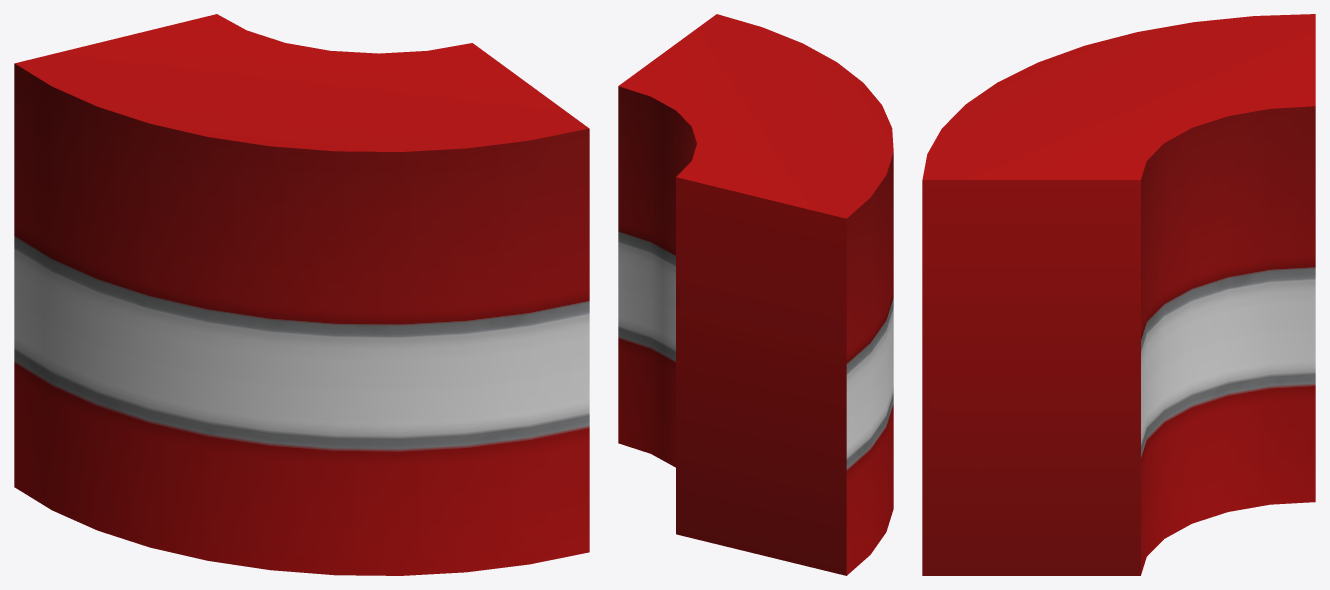
Rendered from CafeBarStand01_6.FBX.
3 renders of one model, left to right at view 1: azimuth 30°, elevation 25°; view 2: azimuth 150°, elevation 25°; view 3: azimuth 270°, elevation 25°, orthographic. The views are drawn at different scales.
Parts seen in each view (by area): view 1: CafeBarStand01_6; view 2: CafeBarStand01_6; view 3: CafeBarStand01_6.
Part boxes in pixels (x1=…): CafeBarStand01_6: x1=14, y1=14, x2=589, y2=575; CafeBarStand01_6: x1=618, y1=14, x2=893, y2=575; CafeBarStand01_6: x1=922, y1=14, x2=1315, y2=575.
Size of what is drawn, in the model's own units: 0.9 by 1 by 0.9.
